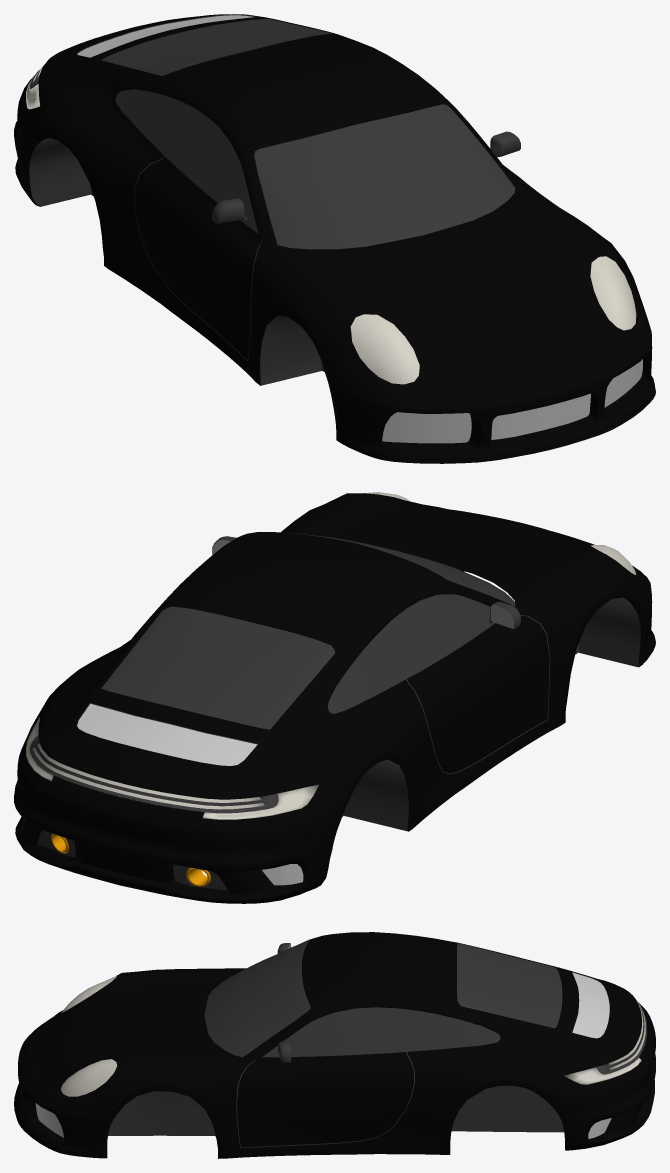
The model's file is Car_4_Body.FBX.
3 renders of one model, top to bottom at view 1: azimuth 30°, elevation 25°; view 2: azimuth 150°, elevation 25°; view 3: azimuth 270°, elevation 25°, orthographic. The views are drawn at different scales.
Visible parts, largest first — view 1: Car_4_Body; view 2: Car_4_Body; view 3: Car_4_Body.
Boxes of the visible parts, x1,y1,x2,y2 form: Car_4_Body: (14,14,655,463); Car_4_Body: (14,492,655,903); Car_4_Body: (14,932,655,1158).
Bounding box in the file's own units: 209 × 125 × 504.
